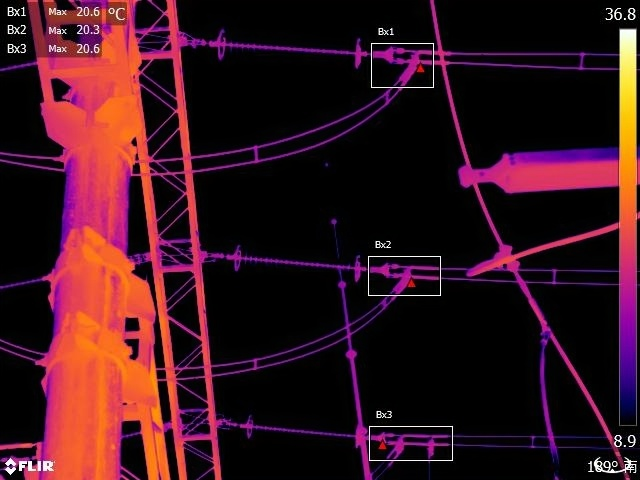clamp: (388, 430, 416, 458), (403, 46, 427, 77), (395, 260, 419, 288)
insulator: (213, 25, 366, 74), (228, 239, 367, 286), (240, 408, 365, 451)
switch: (448, 130, 640, 202)
